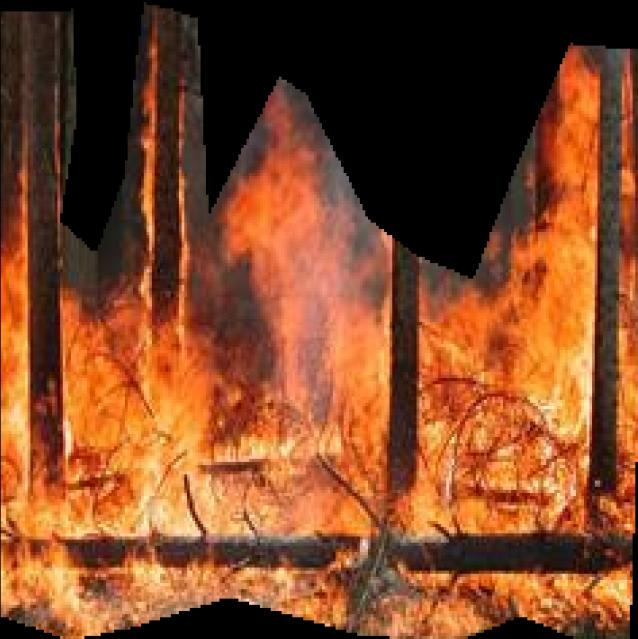fire: (0, 1, 638, 639)
